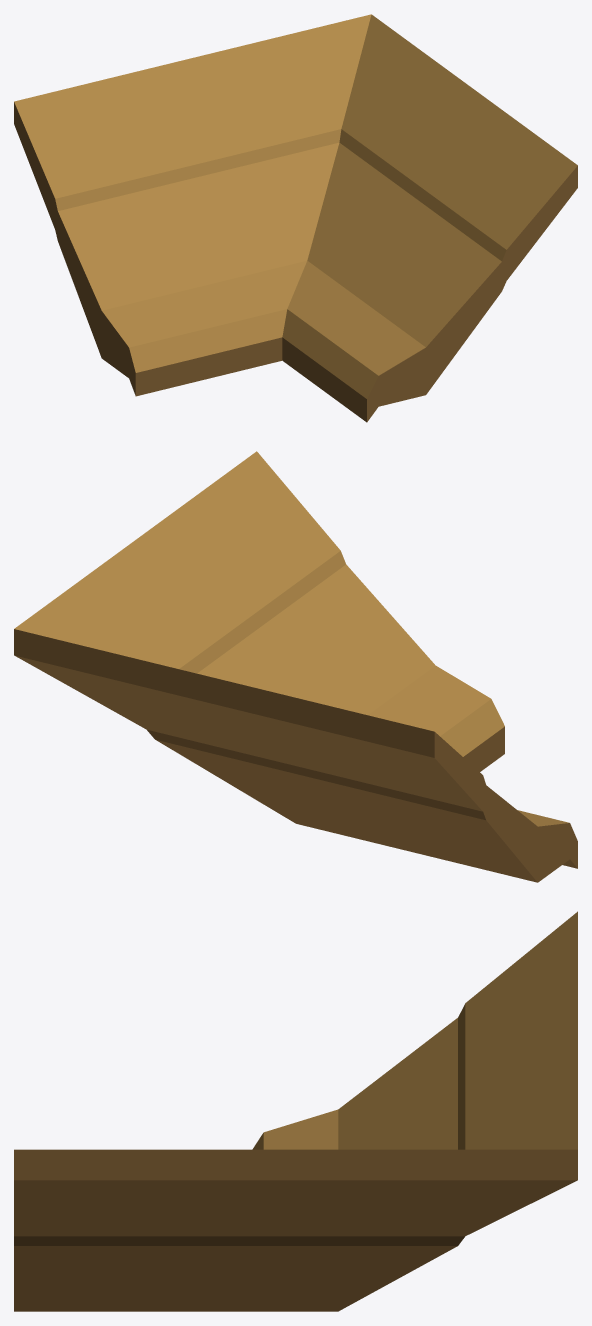
Rendered from thatched_valley.glb.
The picture shows the model from 3 angles, top to bottom: view 1: azimuth 30°, elevation 25°; view 2: azimuth 150°, elevation 25°; view 3: azimuth 270°, elevation 25°; orthographic projection. The views are drawn at different scales.
Visible parts, largest first — view 1: Thatched valley; view 2: Thatched valley; view 3: Thatched valley.
Part boxes in pixels (x1=…): Thatched valley: x1=14, y1=14, x2=577, y2=422; Thatched valley: x1=14, y1=451, x2=577, y2=882; Thatched valley: x1=14, y1=911, x2=577, y2=1311.
Bounding box in the file's own units: 2 × 1.1 × 2.
